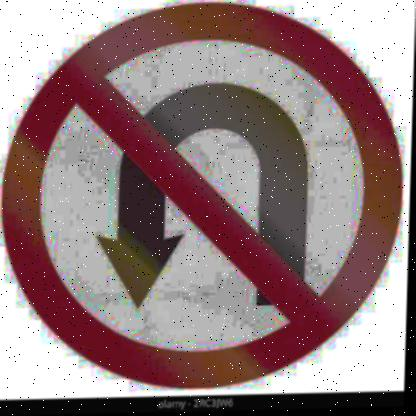No U-turn: (0, 0, 414, 396)
